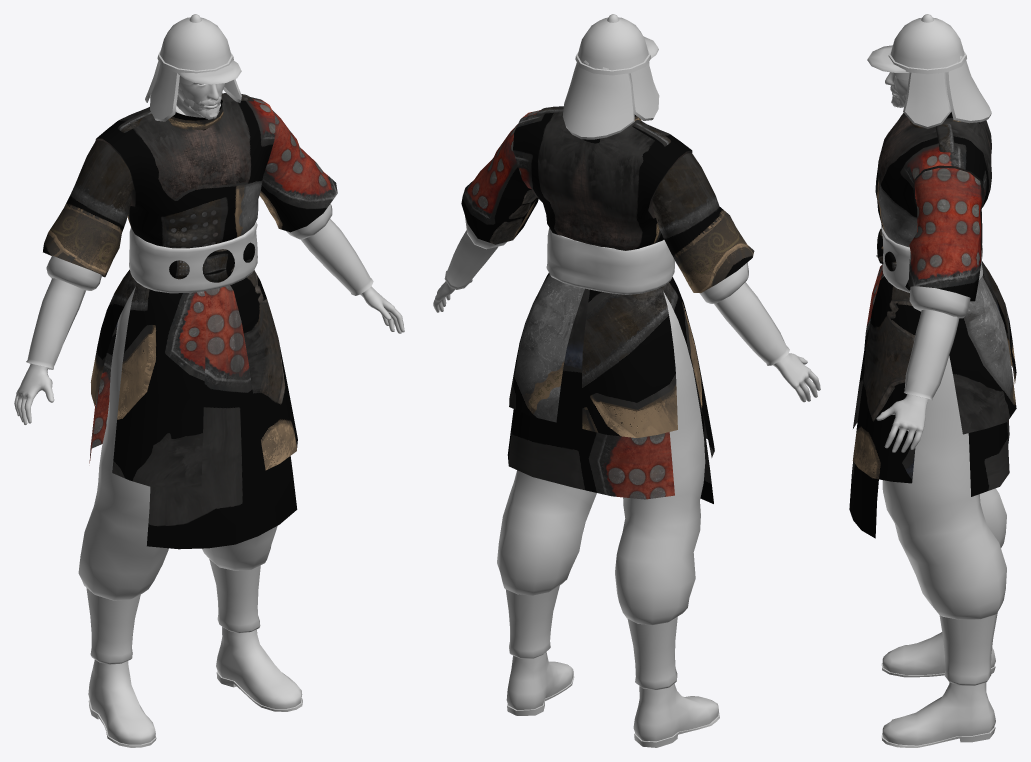
File: musa_03_test.fbx
The picture shows the model from 3 angles, left to right: view 1: azimuth 30°, elevation 25°; view 2: azimuth 150°, elevation 25°; view 3: azimuth 270°, elevation 25°; orthographic projection.
Visible parts, largest first — view 1: musa_03, musa_04, musa_hat_03, musa_head; view 2: musa_03, musa_04, musa_hat_03, musa_head; view 3: musa_03, musa_04, musa_hat_03, musa_head.
Boxes of the visible parts, x1,y1,x2,y2 form: musa_03: [43, 93, 337, 549]; musa_04: [26, 103, 373, 747]; musa_hat_03: [145, 14, 241, 121]; musa_head: [14, 82, 404, 424]; musa_03: [461, 106, 754, 503]; musa_04: [444, 216, 789, 747]; musa_hat_03: [562, 14, 659, 139]; musa_head: [433, 279, 820, 402]; musa_03: [849, 112, 1016, 538]; musa_04: [881, 224, 1006, 747]; musa_hat_03: [867, 14, 991, 128]; musa_head: [876, 72, 949, 452].
Size of the model in its own units: 198 by 350 by 76.99.
